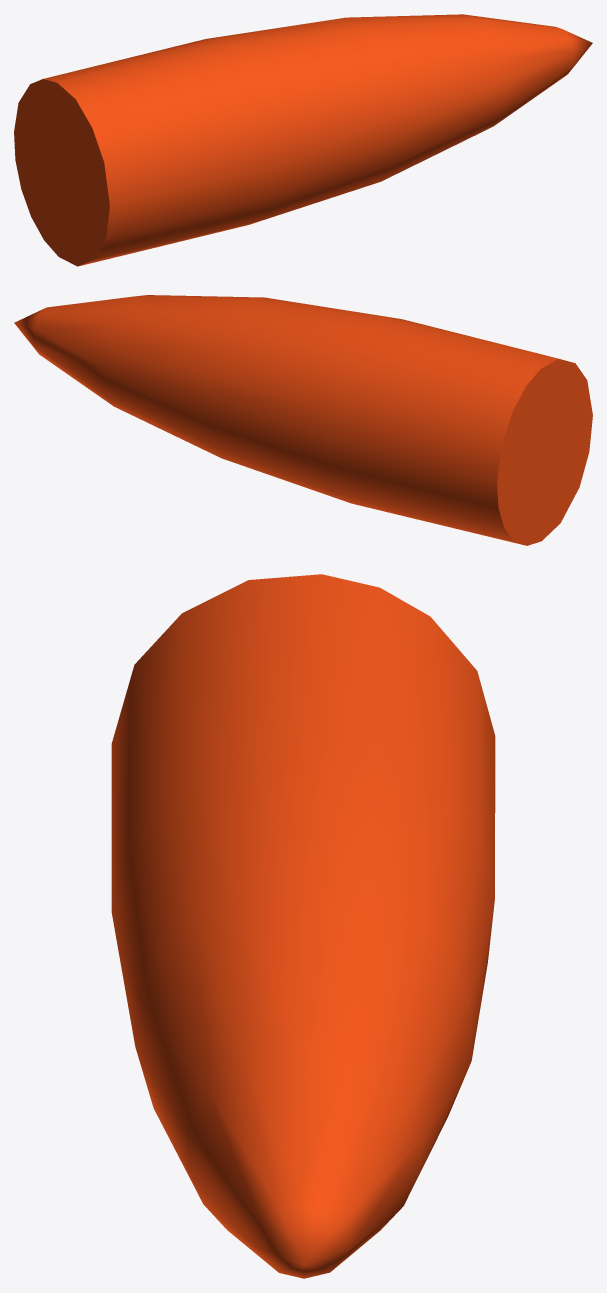
Rendered from bala_ardente.obj.
3 views of the same model, one above another, from view 1: azimuth 30°, elevation 25°; view 2: azimuth 150°, elevation 25°; view 3: azimuth 270°, elevation 25° (orthographic). The views are drawn at different scales.
Size of the model in its own units: 0.1004 by 0.0313 by 0.0314.
